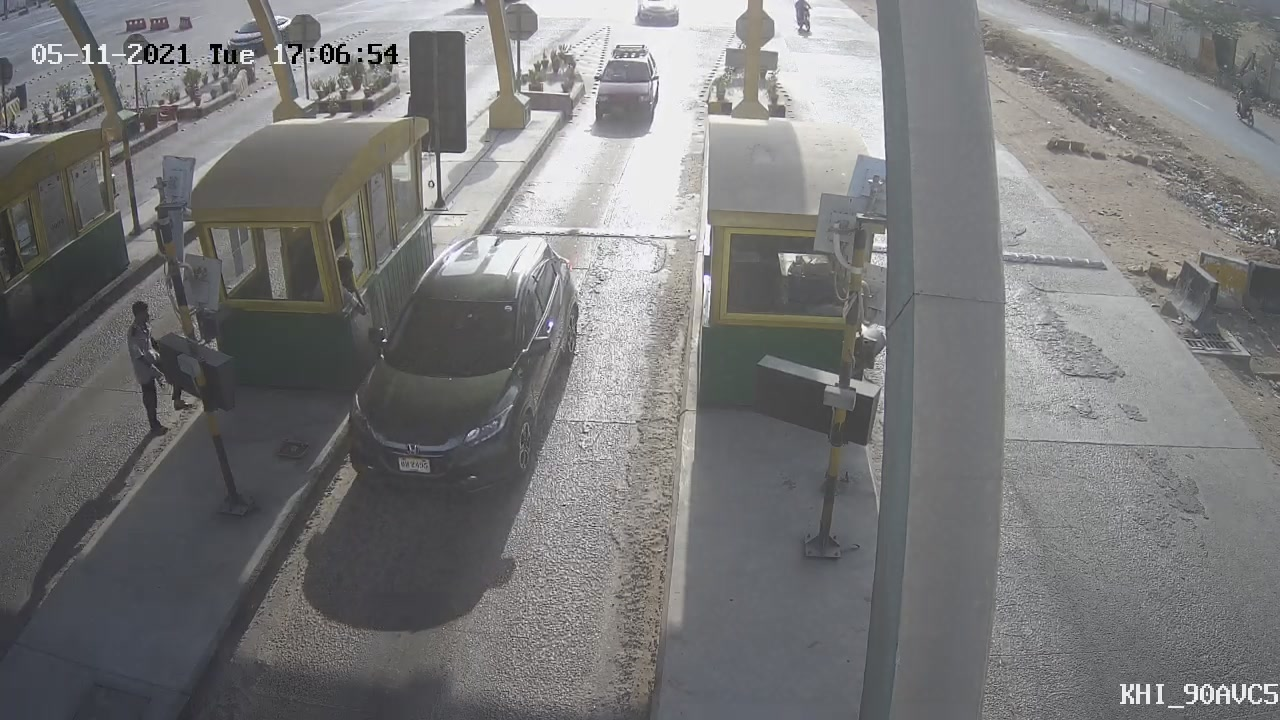F1: (325, 212, 595, 525), (574, 30, 672, 142)
